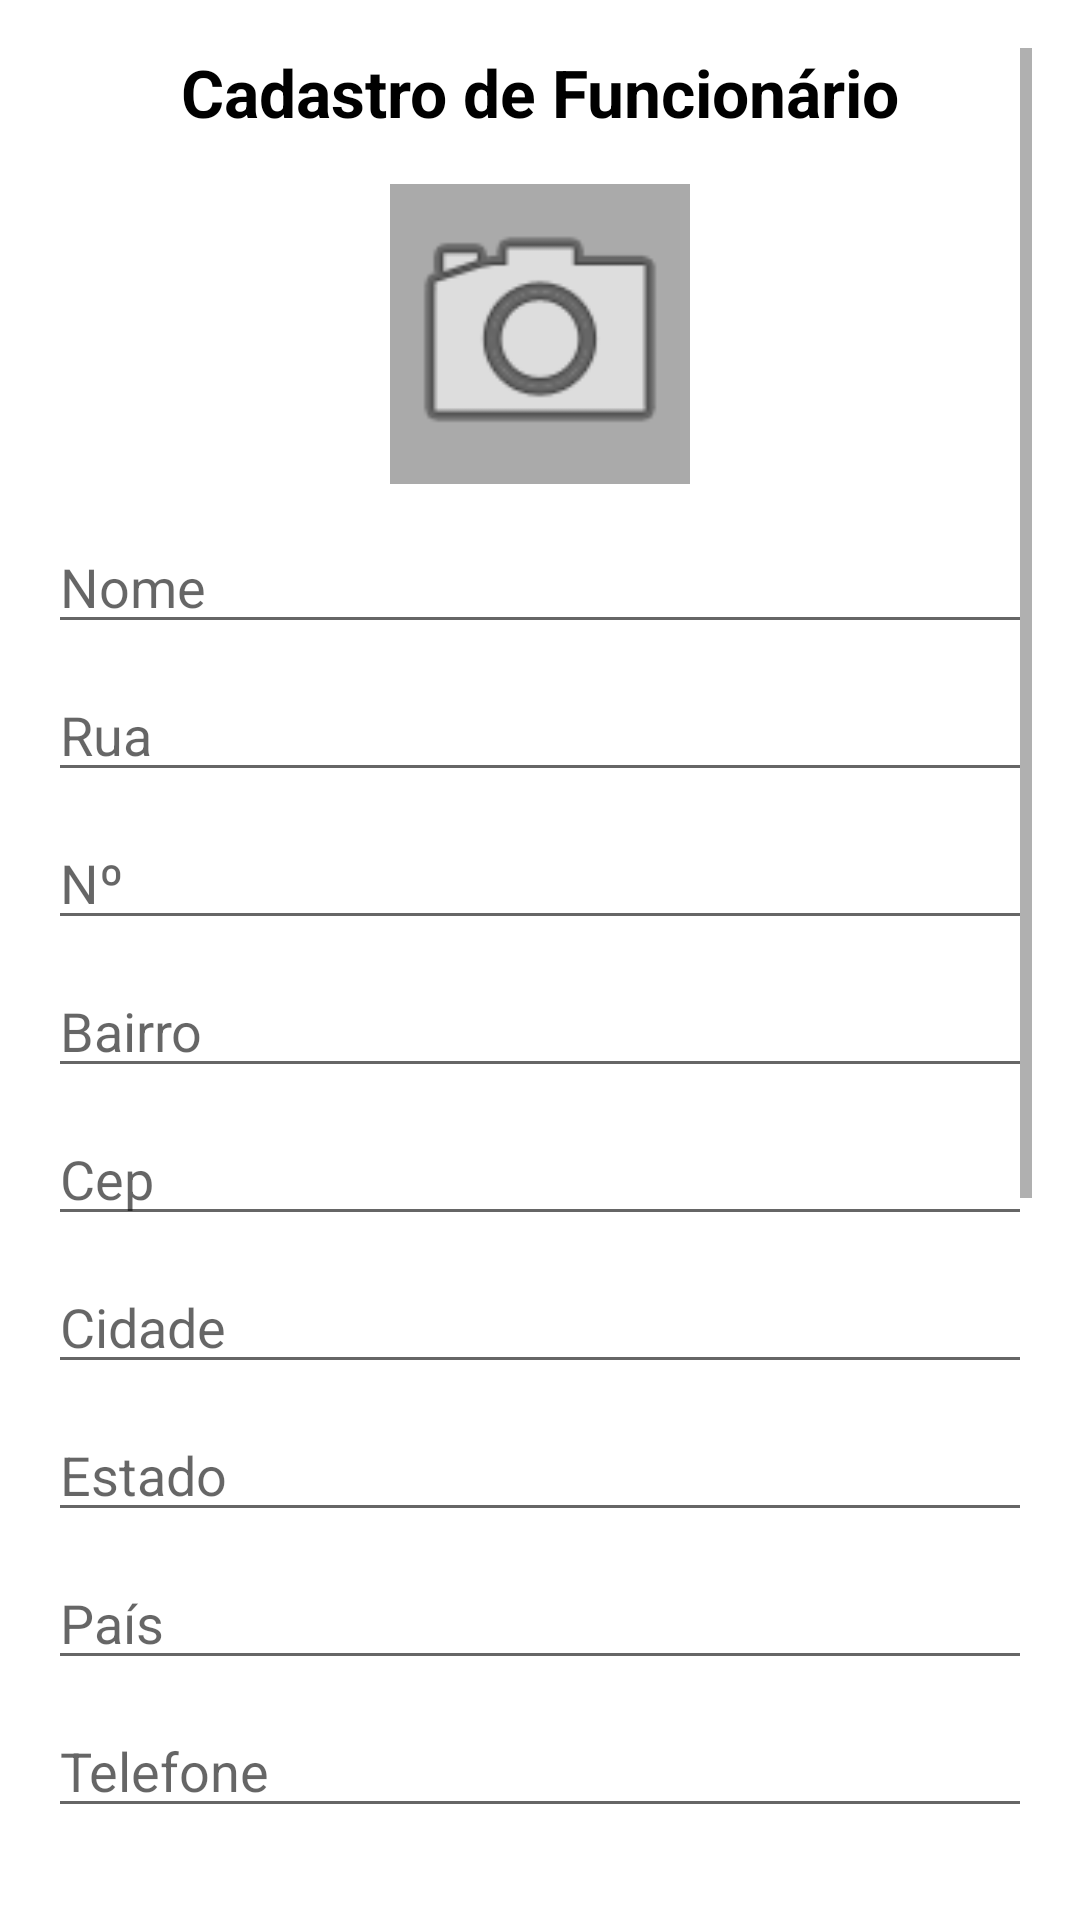

Icons on this 1080 x 1920 Android screen, each with its box as (x1, y1, x2, y2):
Foto do Funcionário: (390, 184, 690, 484)
